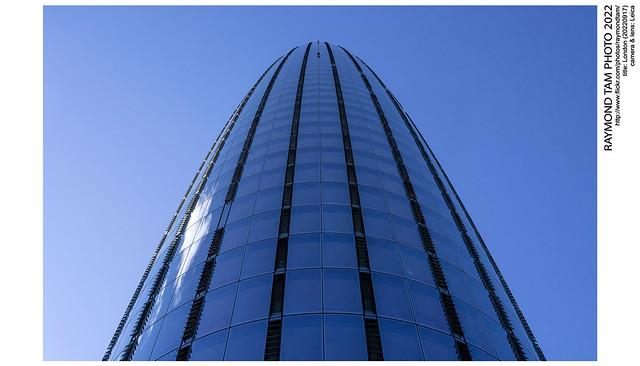building: (87, 37, 549, 362)
